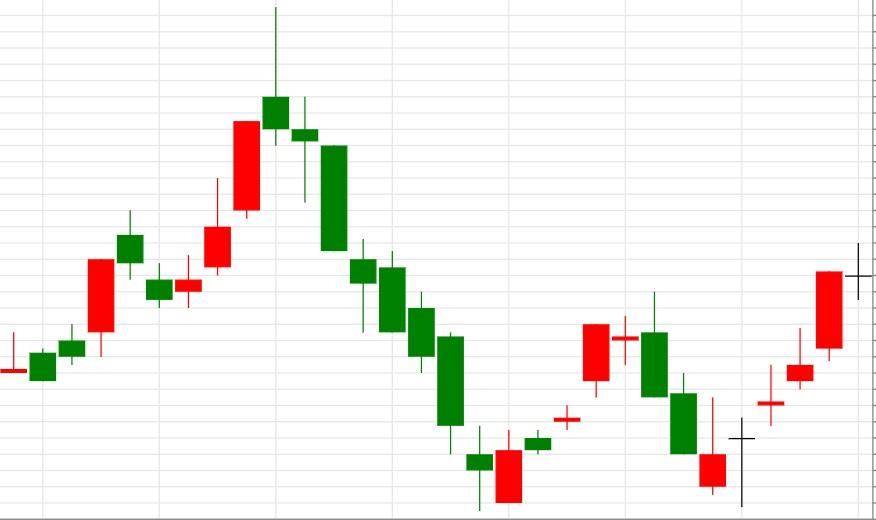evening_star_fall: (465, 291, 668, 511)
three_black_crows_fall: (145, 6, 348, 309)
three_white_soldiers_rise: (116, 120, 261, 308)
